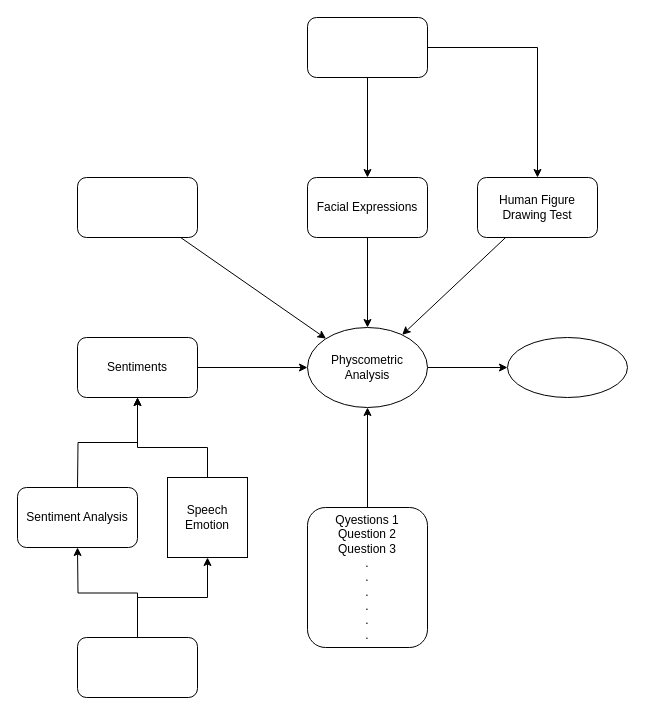
Some shapes in this 645 by 715 pixel diagram are drawn without their labels. The centre of each missing label's shape, as x and y in pixels:
"Automated Speach Recoginition" goes at point (137, 667).
"Image/Video Analysis" goes at point (367, 47).
"Risk Socre" goes at point (567, 367).
"Vital Signs" goes at point (137, 207).
